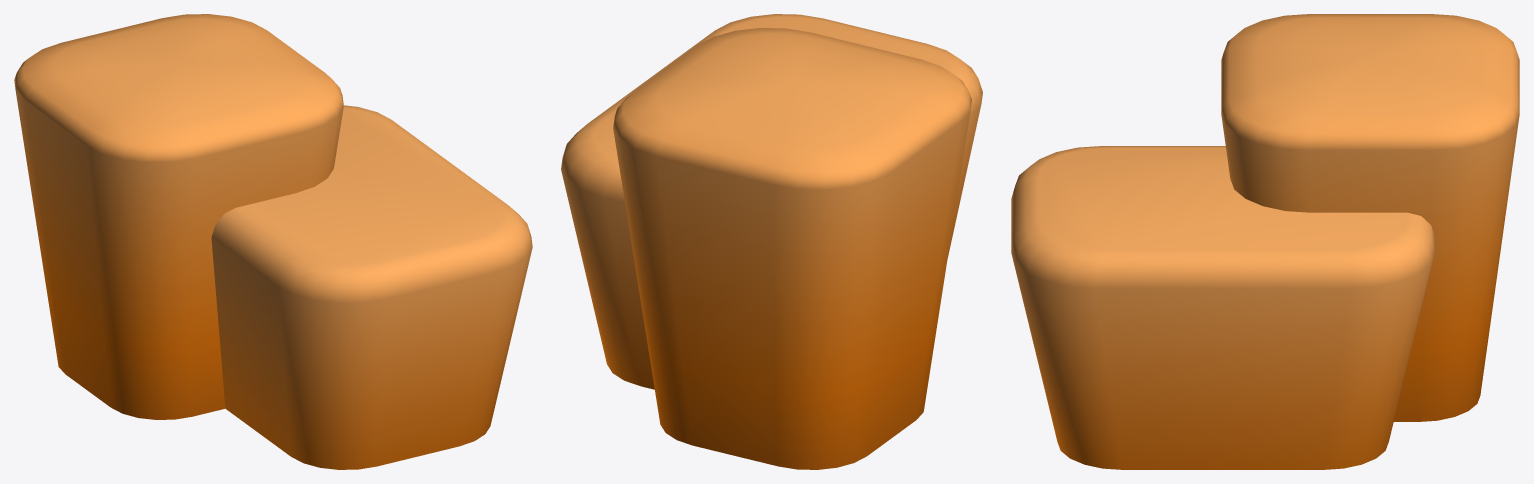
Rendered from Rock_A_03.glb.
3 renders of one model, left to right at view 1: azimuth 30°, elevation 25°; view 2: azimuth 150°, elevation 25°; view 3: azimuth 270°, elevation 25°, orthographic. The views are drawn at different scales.
Visible parts, largest first — view 1: Rock_A_03; view 2: Rock_A_03; view 3: Rock_A_03.
Boxes of the visible parts, <box> form: Rock_A_03: <box>14,14,532,469</box>; Rock_A_03: <box>561,14,982,469</box>; Rock_A_03: <box>1011,14,1519,469</box>.
Size of the model in its own units: 1.57 by 1.37 by 1.97.
Materials: 1 (1 with a texture image).
